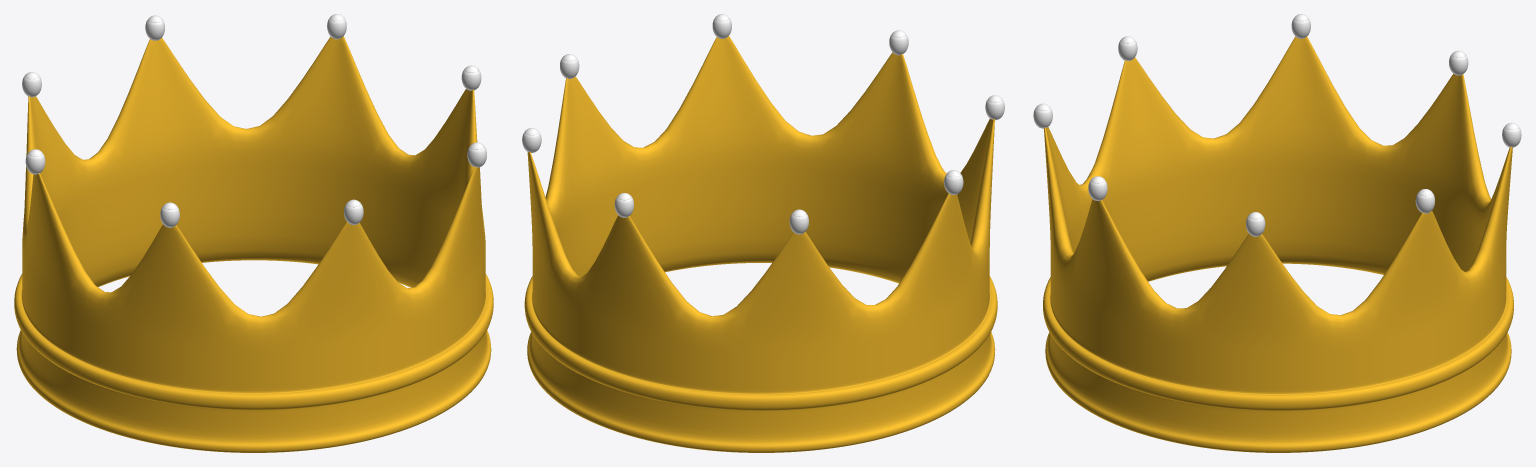
The model's file is crown.fbx.
The picture shows the model from 3 angles, left to right: view 1: azimuth 30°, elevation 25°; view 2: azimuth 150°, elevation 25°; view 3: azimuth 270°, elevation 25°; orthographic projection.
Visible parts, largest first — view 1: Cylinder; view 2: Cylinder; view 3: Cylinder.
Part boxes in pixels (x1,y1,x2,y2): Cylinder: (14,36,493,452); Cylinder: (524,36,997,452); Cylinder: (1043,36,1513,452).
Bounding box in the file's own units: 121 × 66.38 × 121.
